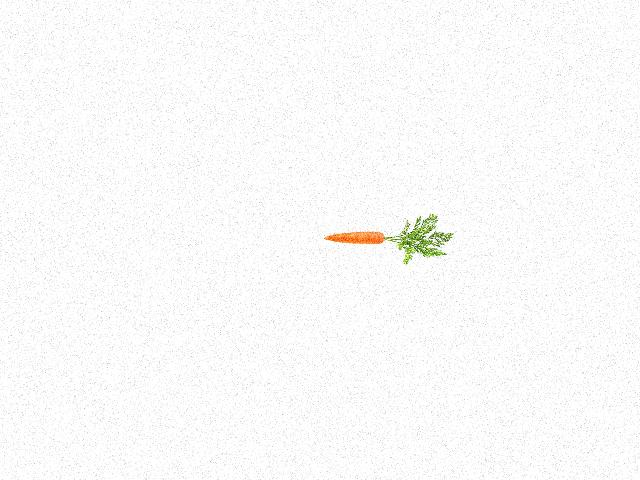carrot: (321, 231, 386, 247)
